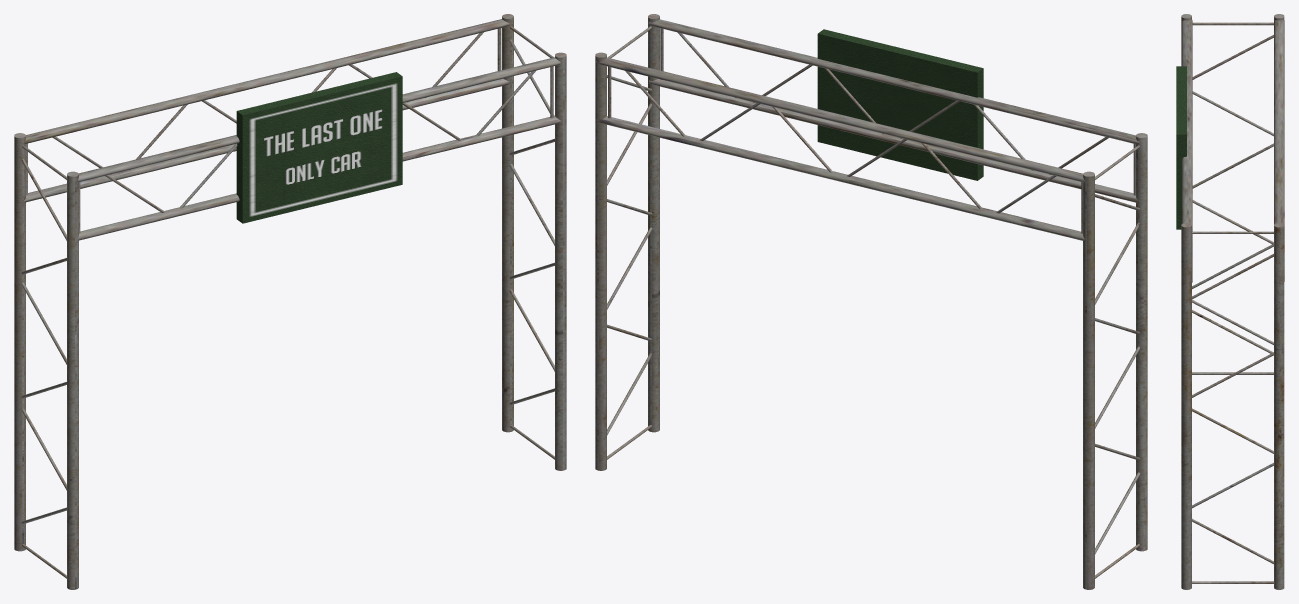
Rendered from notice.FBX.
The picture shows the model from 3 angles, left to right: view 1: azimuth 30°, elevation 25°; view 2: azimuth 150°, elevation 25°; view 3: azimuth 270°, elevation 25°; orthographic projection. The views are drawn at different scales.
Visible parts, largest first — view 1: Cylinder028; view 2: Cylinder028; view 3: Cylinder028.
Boxes of the visible parts, box(x1,y1,x2,y2) form: Cylinder028: box(14, 14, 566, 589); Cylinder028: box(595, 14, 1147, 589); Cylinder028: box(1176, 14, 1284, 589).
Size of the model in its own units: 187 by 156 by 40.05.
